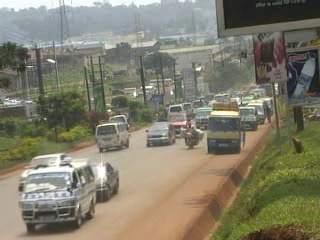Car: (18, 148, 75, 194), (85, 160, 122, 202), (142, 117, 180, 149), (168, 111, 191, 133)
Motorcycle: (179, 121, 204, 150)
